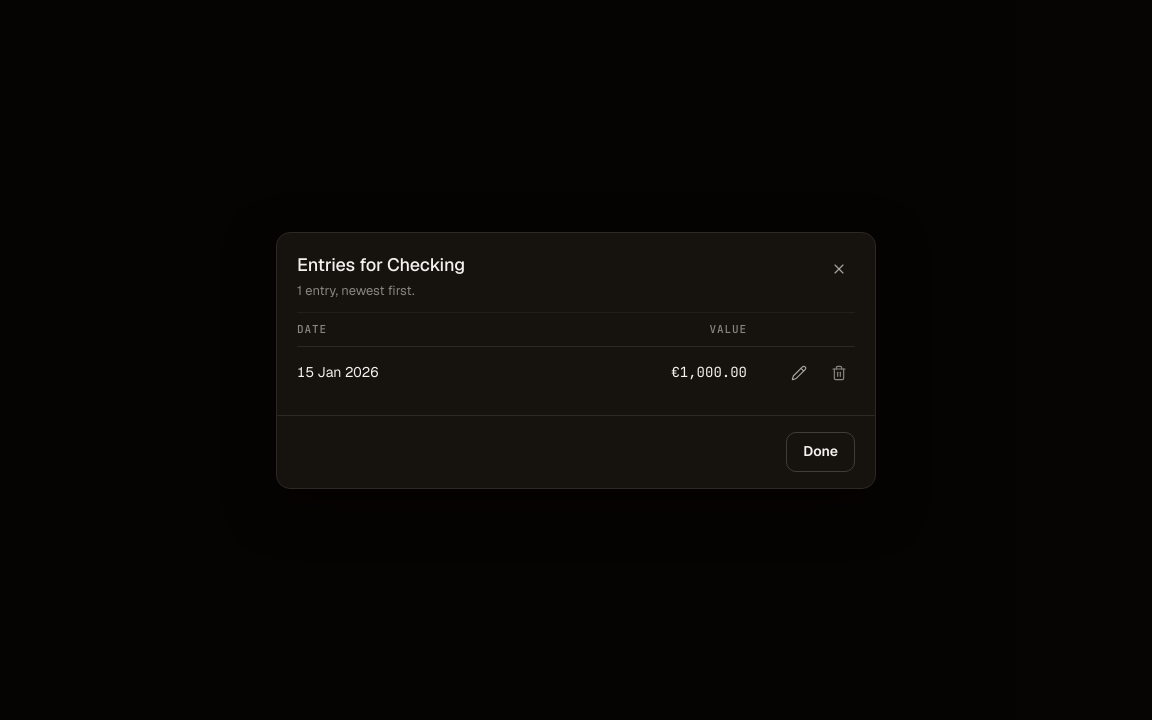
MeasurementHistoryModal › opens the Edit sub-modal when the pencil is clicked
This screenshot has width=1152, height=720.
Click the button named "Edit entry from 15 Jan 2026" at (799, 372), box [783,356,815,388]
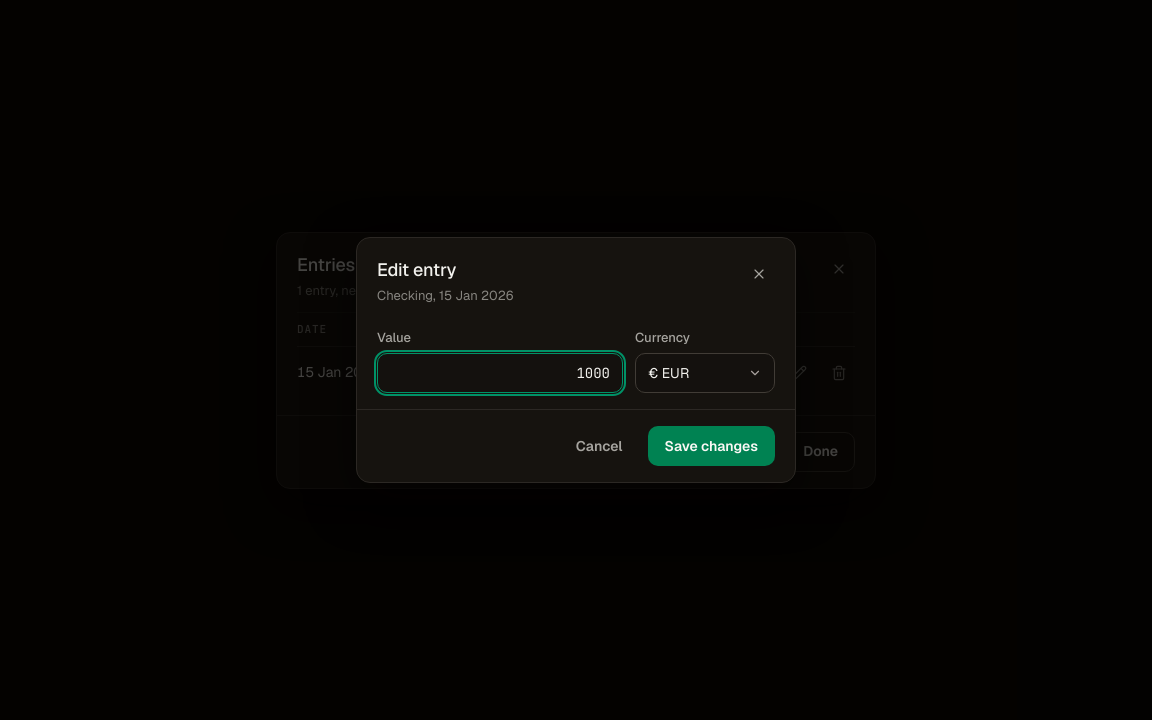
Now the dialog "Edit entry" is shown, box [356,237,796,483]
